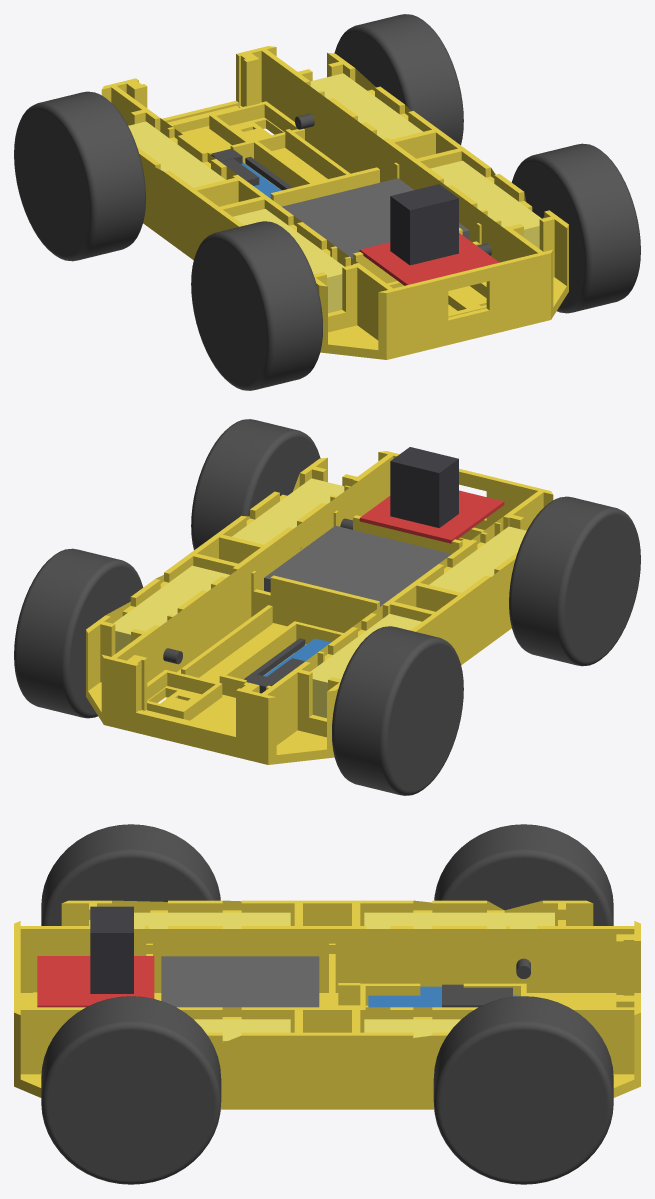
File: carro_rm.fbx
The picture shows the model from 3 angles, top to bottom: view 1: azimuth 30°, elevation 25°; view 2: azimuth 150°, elevation 25°; view 3: azimuth 270°, elevation 25°; orthographic projection. The views are drawn at different scales.
Visible parts, largest first — view 1: CHASIS_CARRO_RC_PRINT, REF_rueda_WR, REF_rueda_WF, REF_rueda_ER, REF_rueda_EF, REF_portapilas_4AA, L298N_disipador, REF_motor_TT_ER, L298N_pcb, REF_motor_TT_EF, REF_motor_TT_WF, REF_motor_TT_WR; view 2: CHASIS_CARRO_RC_PRINT, REF_rueda_WF, REF_rueda_WR, REF_rueda_EF, REF_rueda_ER, REF_portapilas_4AA, L298N_disipador, REF_motor_TT_EF, L298N_pcb, REF_motor_TT_ER, REF_motor_TT_WR, REF_motor_TT_WF (+2 smaller); view 3: CHASIS_CARRO_RC_PRINT, REF_rueda_EF, REF_rueda_ER, REF_rueda_WF, REF_rueda_WR, REF_portapilas_4AA, L298N_pcb, L298N_disipador, REF_motor_TT_WF, REF_motor_TT_WR, REF_motor_TT_ER, REF_motor_TT_EF (+2 smaller).
Boxes of the visible parts, x1=… form: CHASIS_CARRO_RC_PRINT: x1=101, y1=46, x2=568, y2=359; REF_rueda_WR: x1=191, y1=221, x2=322, y2=390; REF_rueda_WF: x1=14, y1=91, x2=145, y2=261; REF_rueda_ER: x1=511, y1=143, x2=640, y2=313; REF_rueda_EF: x1=334, y1=14, x2=463, y2=144; REF_portapilas_4AA: x1=282, y1=178, x2=469, y2=258; L298N_disipador: x1=390, y1=184, x2=458, y2=265; REF_motor_TT_ER: x1=430, y1=160, x2=541, y2=248; L298N_pcb: x1=359, y1=233, x2=499, y2=285; REF_motor_TT_EF: x1=310, y1=73, x2=422, y2=139; REF_motor_TT_WF: x1=128, y1=121, x2=225, y2=187; REF_motor_TT_WR: x1=233, y1=209, x2=344, y2=312; CHASIS_CARRO_RC_PRINT: x1=86, y1=451, x2=553, y2=764; REF_rueda_WF: x1=332, y1=626, x2=463, y2=795; REF_rueda_WR: x1=509, y1=496, x2=640, y2=666; REF_rueda_EF: x1=14, y1=548, x2=143, y2=718; REF_rueda_ER: x1=191, y1=419, x2=320, y2=549; REF_portapilas_4AA: x1=264, y1=525, x2=451, y2=606; L298N_disipador: x1=390, y1=447, x2=458, y2=527; REF_motor_TT_EF: x1=113, y1=565, x2=229, y2=653; L298N_pcb: x1=359, y1=490, x2=504, y2=543; REF_motor_TT_ER: x1=232, y1=478, x2=344, y2=544; REF_motor_TT_WR: x1=429, y1=526, x2=526, y2=592; REF_motor_TT_WF: x1=310, y1=614, x2=421, y2=717; CHASIS_CARRO_RC_PRINT: x1=14, y1=900, x2=640, y2=1109; REF_rueda_EF: x1=433, y1=996, x2=613, y2=1184; REF_rueda_ER: x1=41, y1=996, x2=221, y2=1184; REF_rueda_WF: x1=434, y1=824, x2=613, y2=925; REF_rueda_WR: x1=41, y1=824, x2=220, y2=925; REF_portapilas_4AA: x1=161, y1=956, x2=319, y2=1007; L298N_pcb: x1=37, y1=956, x2=154, y2=1007; L298N_disipador: x1=90, y1=906, x2=133, y2=993; REF_motor_TT_WF: x1=364, y1=912, x2=554, y2=928; REF_motor_TT_WR: x1=134, y1=912, x2=290, y2=928; REF_motor_TT_ER: x1=194, y1=1019, x2=290, y2=1042; REF_motor_TT_EF: x1=364, y1=1019, x2=460, y2=1037.
Bounding box in the file's own units: 175 × 67.25 × 230.
